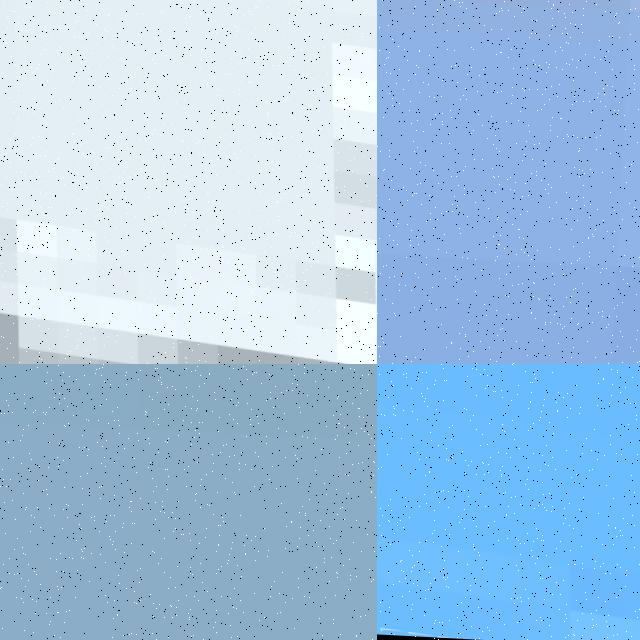0: (0, 0, 377, 364)
drone: (377, 364, 640, 640)
